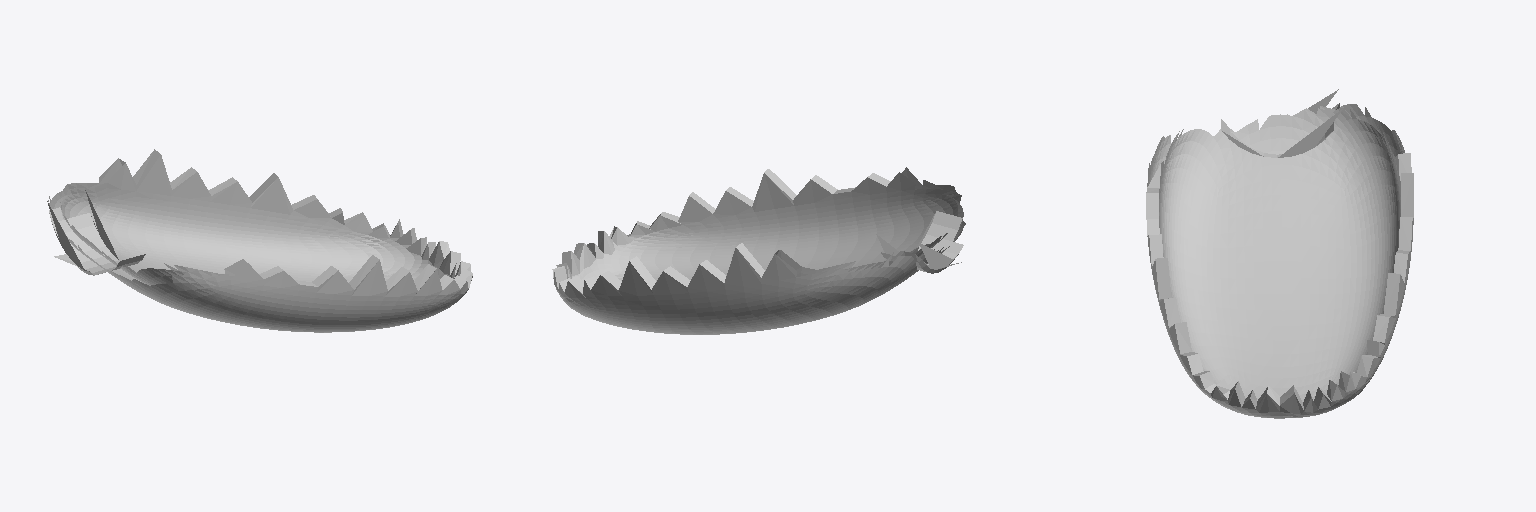
Rendered from ejerciciogoddardmandibula.obj.
3 renders of one model, left to right at view 1: azimuth 30°, elevation 25°; view 2: azimuth 150°, elevation 25°; view 3: azimuth 270°, elevation 25°, orthographic.
Visible parts, largest first — view 1: cabeza.001; view 2: cabeza.001; view 3: cabeza.001.
Boxes of the visible parts, box(x1,y1,x2,y2) form: cabeza.001: box(47, 149, 472, 332); cabeza.001: box(552, 167, 965, 334); cabeza.001: box(1146, 89, 1413, 418).
Bounding box in the file's own units: 2.77 × 1.06 × 1.61.